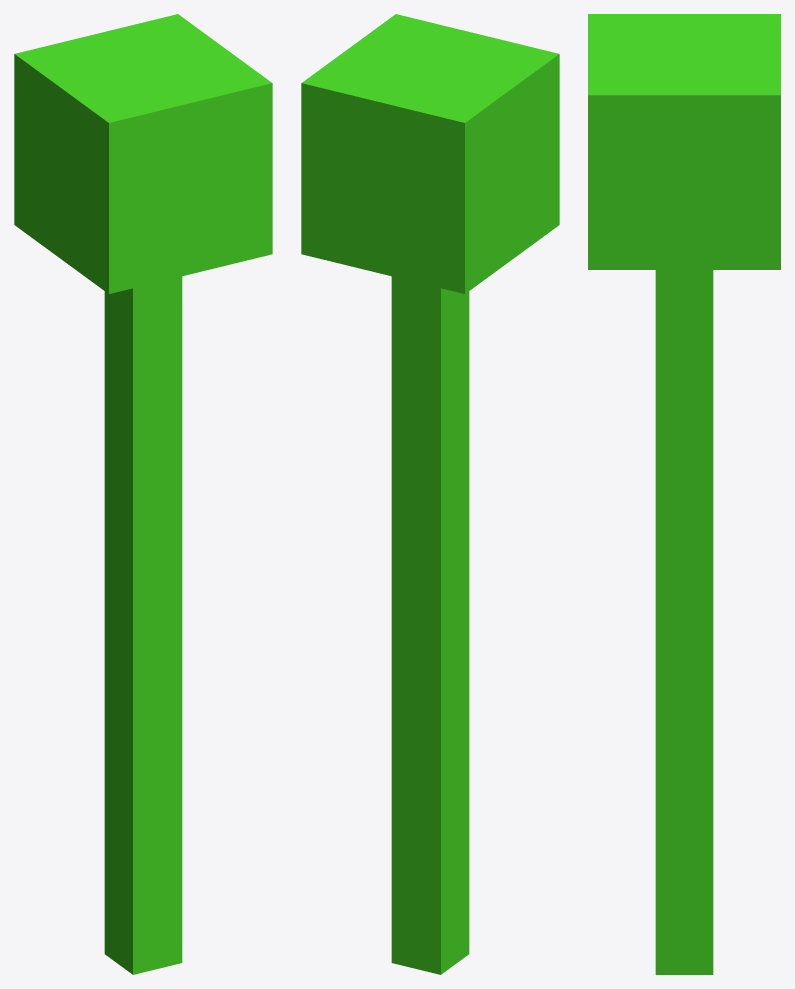
The model's file is ScaleGizmoY.fbx.
3 renders of one model, left to right at view 1: azimuth 30°, elevation 25°; view 2: azimuth 150°, elevation 25°; view 3: azimuth 270°, elevation 25°, orthographic. The views are drawn at different scales.
Parts seen in each view (by area): view 1: Cube.001; view 2: Cube.001; view 3: Cube.001.
Boxes of the visible parts, x1,y1,x2,y2 form: Cube.001: [14, 14, 272, 974]; Cube.001: [301, 14, 559, 974]; Cube.001: [588, 14, 780, 974].
Size of the model in its own units: 50 by 260 by 50.
